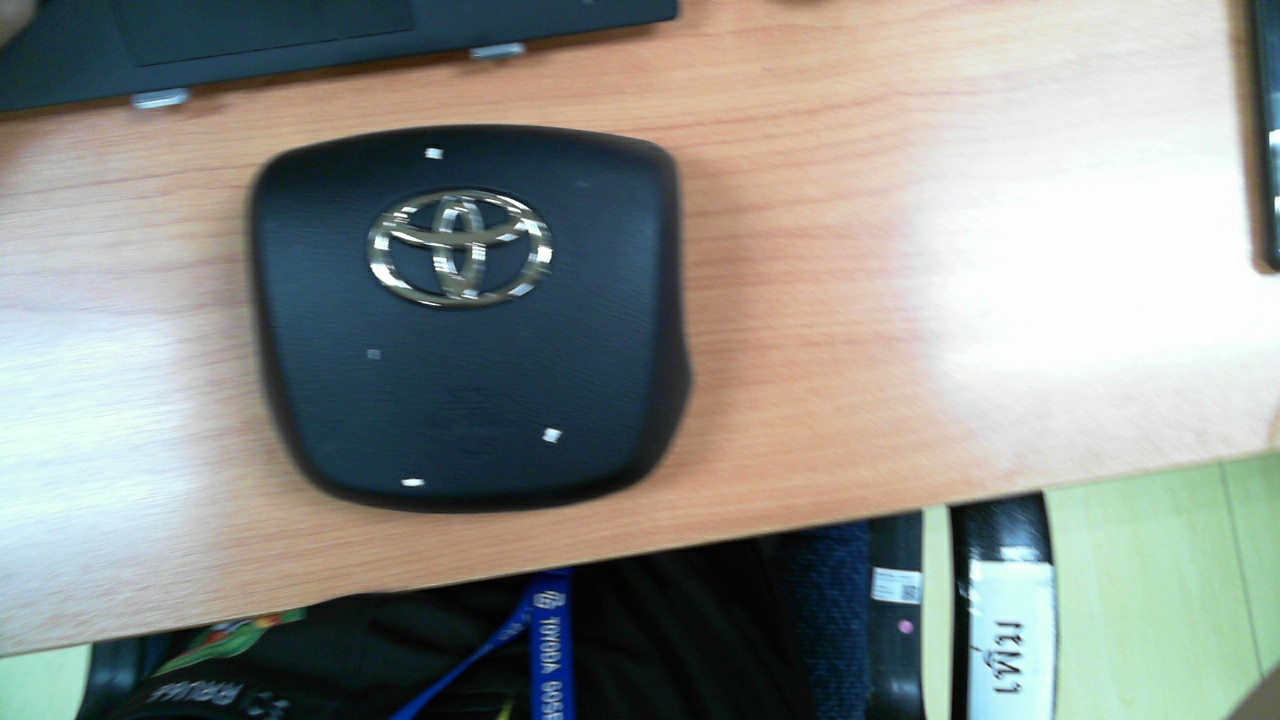Airbag: (247, 123, 692, 514)
Mark: (542, 427, 562, 444), (400, 478, 426, 487), (425, 148, 443, 160), (367, 349, 383, 361)
